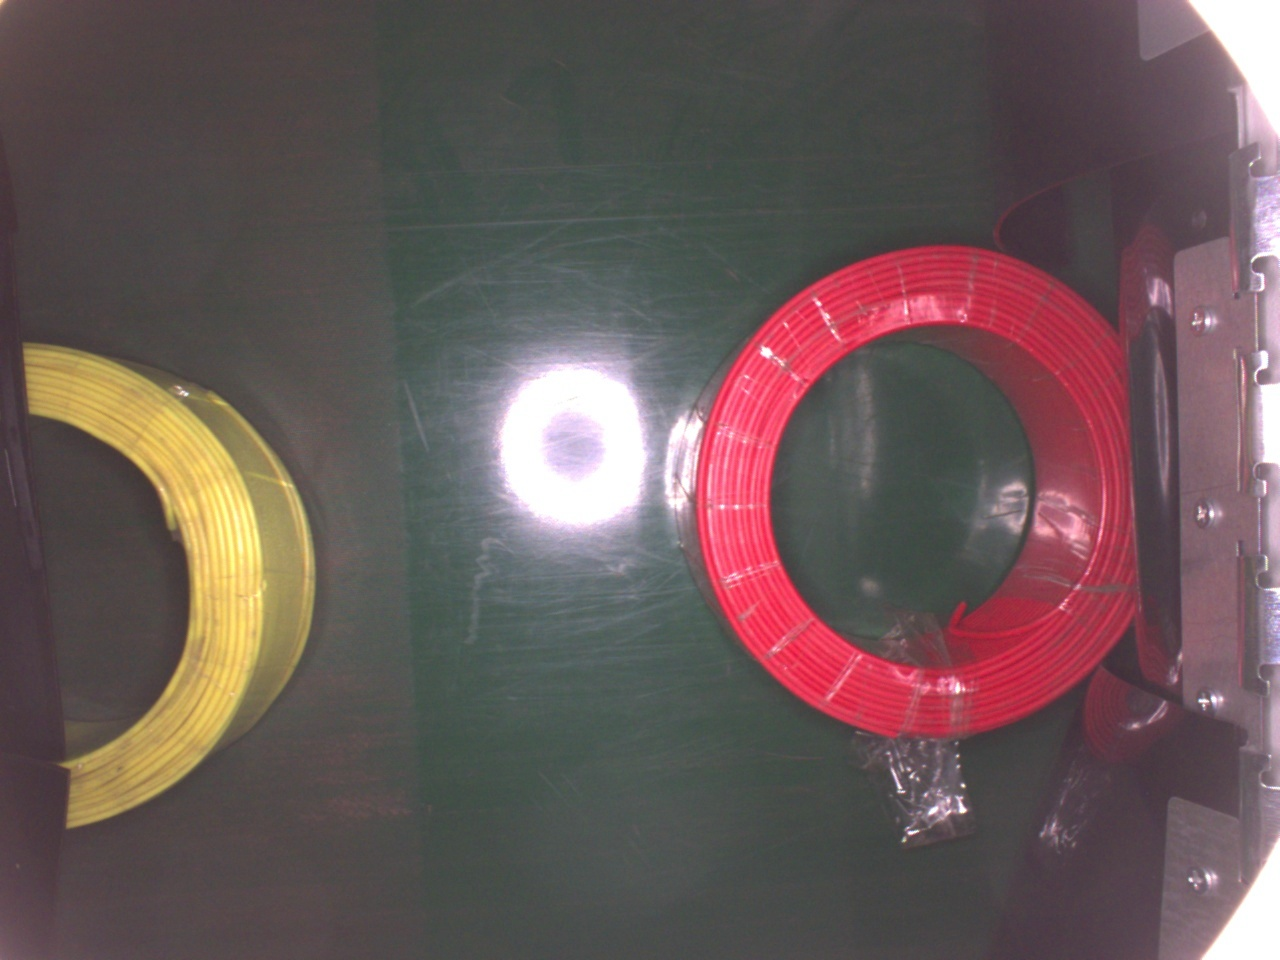red: (676, 237, 1148, 742)
yellow: (24, 338, 323, 838)
